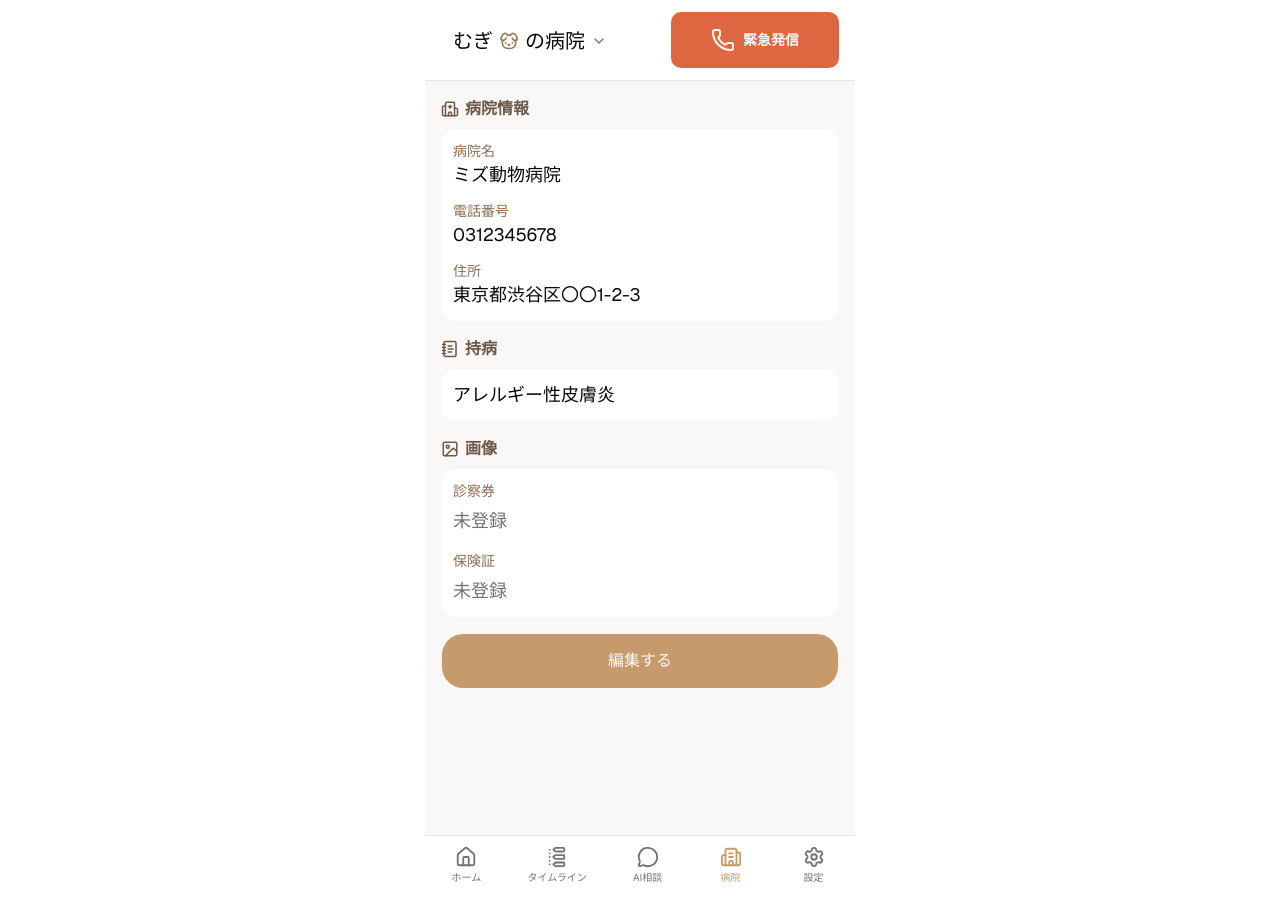
Test: HospitalPage › ペット切り替え › UT-F-308: ペットを選択（正常系）：フォームが選択したペットの病院情報にresetされ、編集モードが強制終了する
Click the button "編集する" at (640, 661), box 441,633 -> 839,689
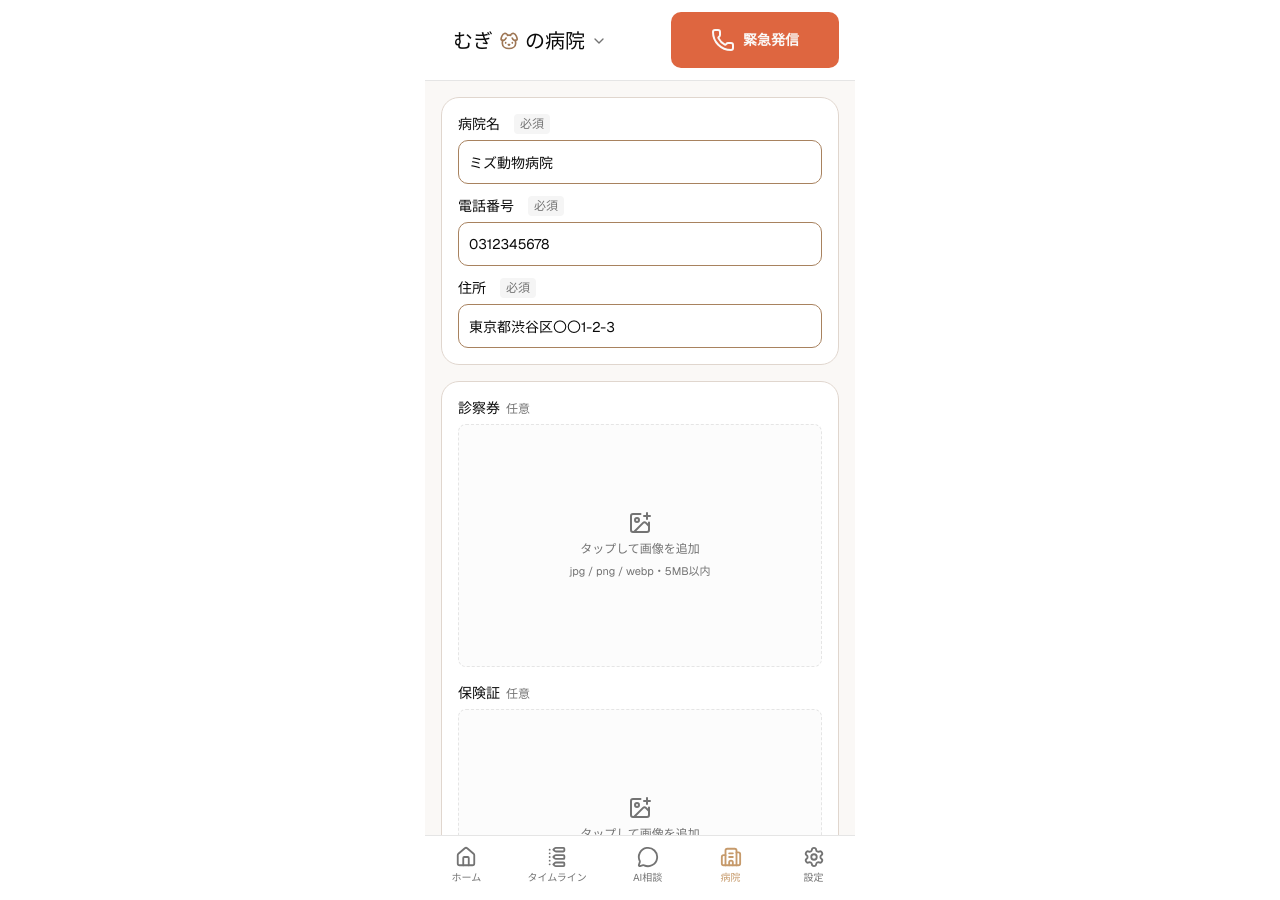
Click the button with aria-label "ペットを切り替える" at (530, 41), box 453,19 -> 607,63
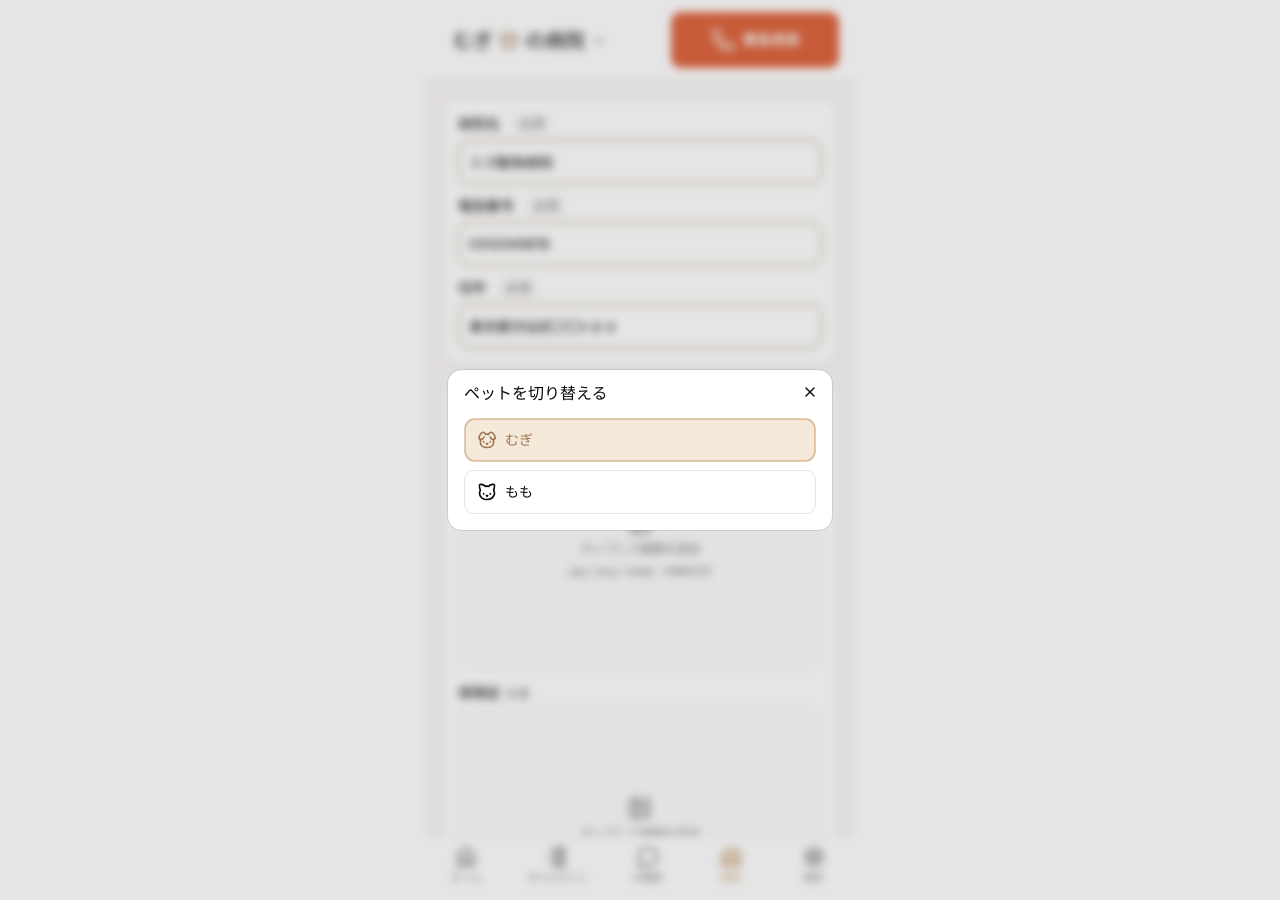
Click the button "もも" at (487, 492), box 464,470 -> 816,514
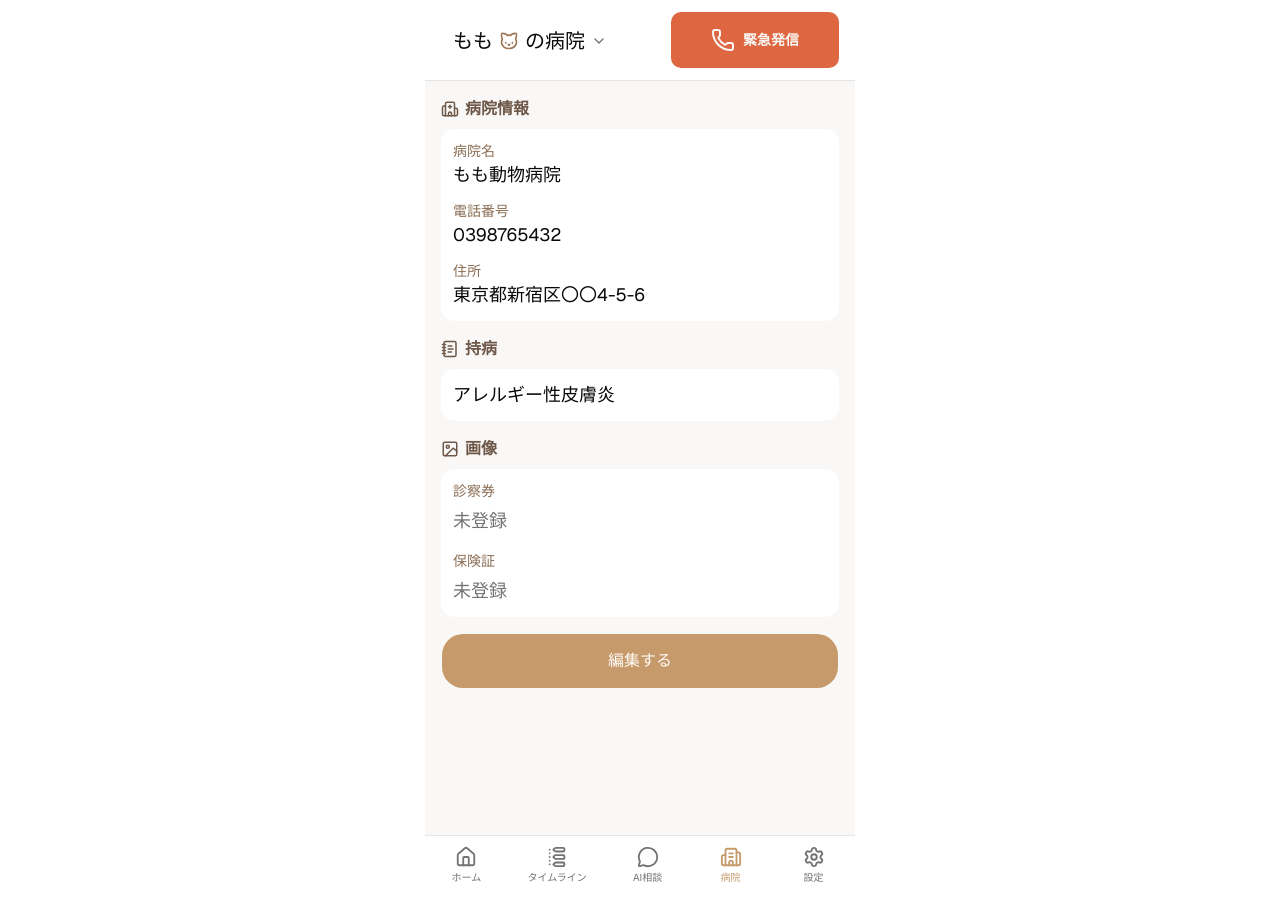
Now the dialog is gone
Now the button "編集する" is shown
Click the button "編集する" at (640, 661), box 441,633 -> 839,689
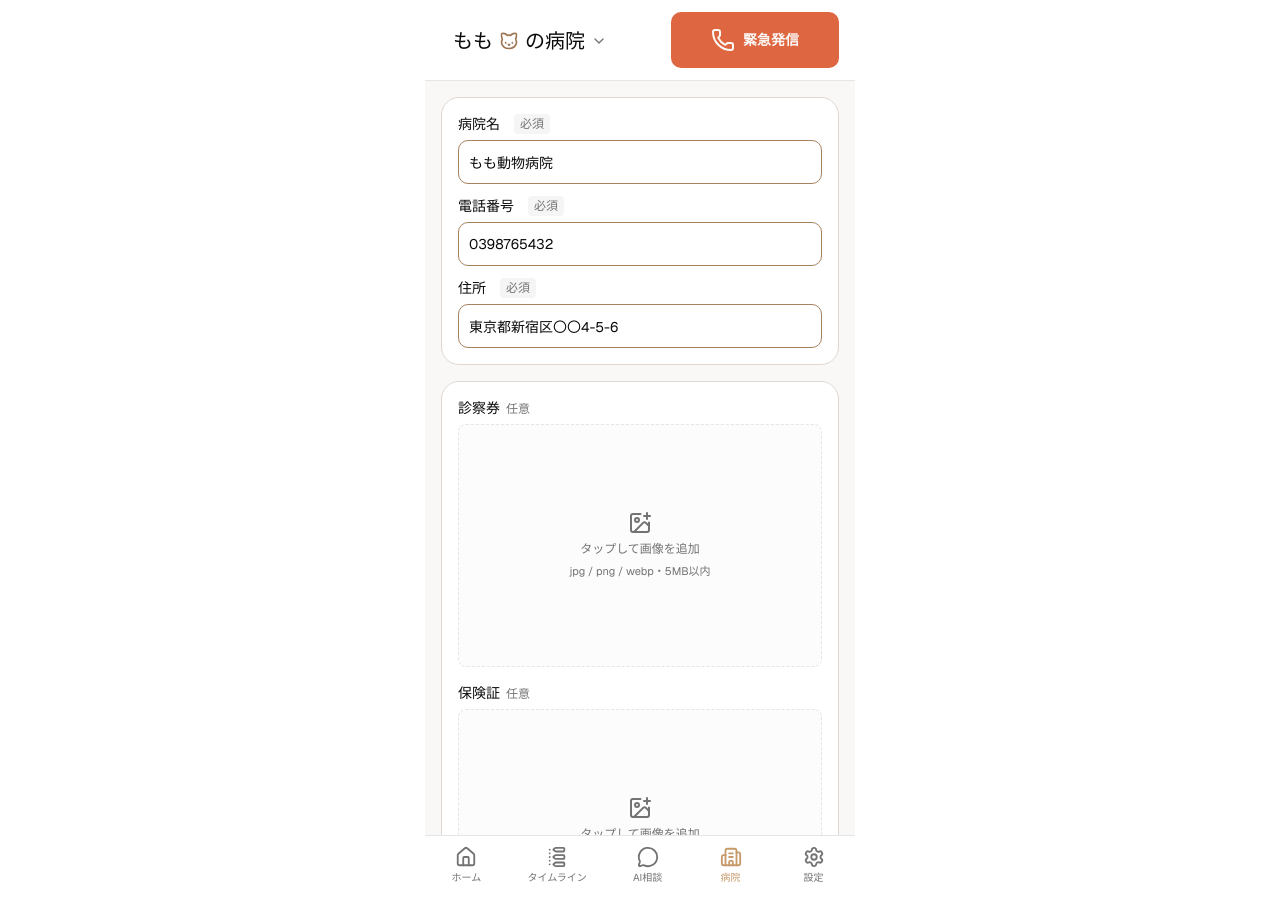
Now the field labelled "病院名 必須" holds "もも動物病院", box 458,140 -> 822,184
